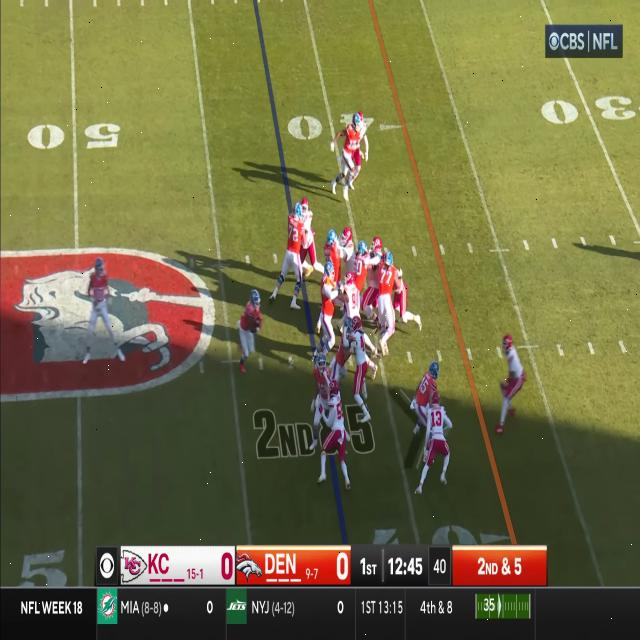Player: (86, 256, 118, 368), (420, 398, 454, 496), (238, 287, 268, 390), (376, 249, 404, 356), (345, 318, 373, 422), (497, 334, 526, 434), (280, 202, 306, 312), (322, 380, 346, 490), (340, 110, 362, 202), (316, 262, 336, 356), (312, 352, 330, 452), (411, 362, 441, 408), (338, 270, 364, 322), (300, 198, 314, 278), (352, 240, 371, 291)
